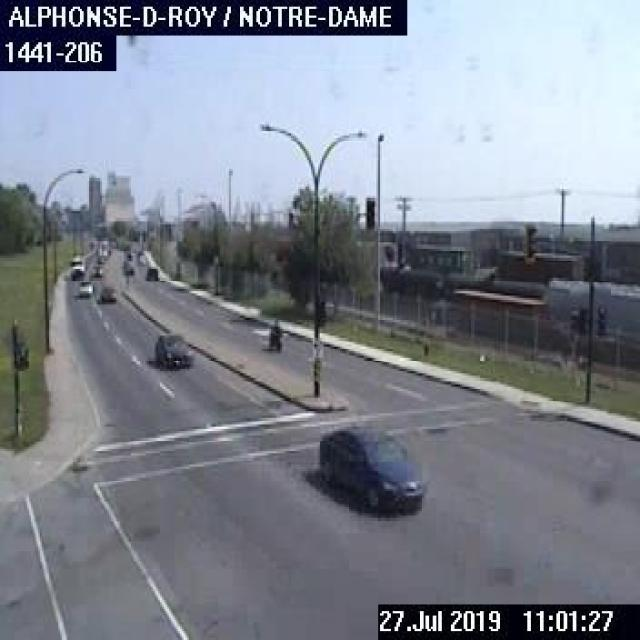vehicle: (316, 420, 428, 516), (149, 329, 193, 369), (265, 315, 282, 350), (96, 281, 116, 304), (68, 253, 84, 279), (77, 279, 93, 296), (120, 258, 135, 276), (145, 263, 158, 280), (89, 264, 100, 276)
